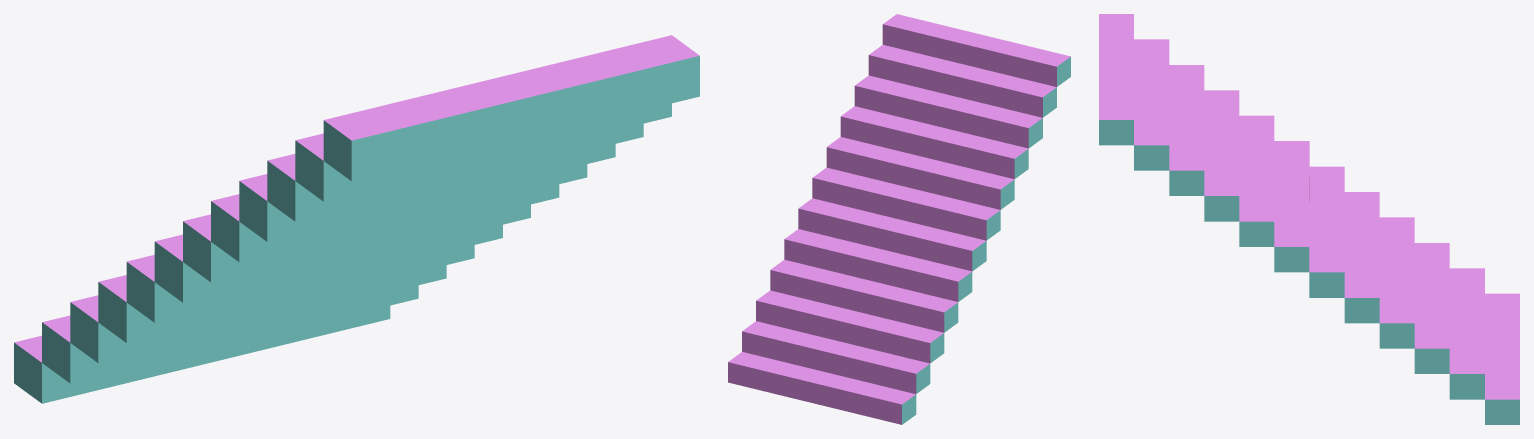
File: StairsLarge.fbx
3 renders of one model, left to right at view 1: azimuth 30°, elevation 25°; view 2: azimuth 150°, elevation 25°; view 3: azimuth 270°, elevation 25°, orthographic. The views are drawn at different scales.
Visible parts, largest first — view 1: StairLarge; view 2: StairLarge; view 3: StairLarge.
Part boxes in pixels (x1,y1,x2,y2): StairLarge: (14,35,699,403); StairLarge: (728,14,1070,424); StairLarge: (1099,14,1519,424).
Size of the model in its own units: 2.5 by 3.36 by 4.2.
